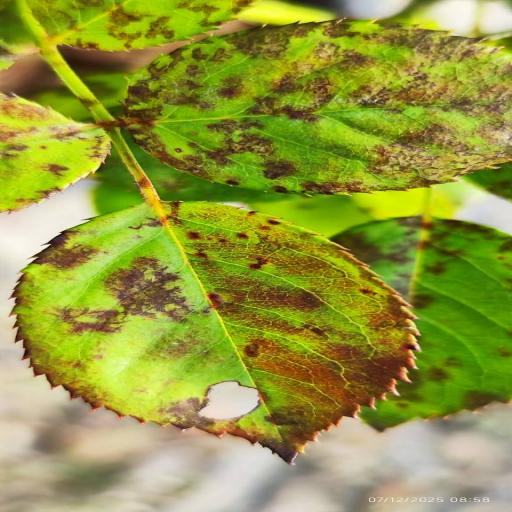black_spot: (15, 202, 416, 463), (124, 21, 511, 194), (333, 217, 511, 430), (0, 93, 109, 212), (28, 0, 253, 51)
